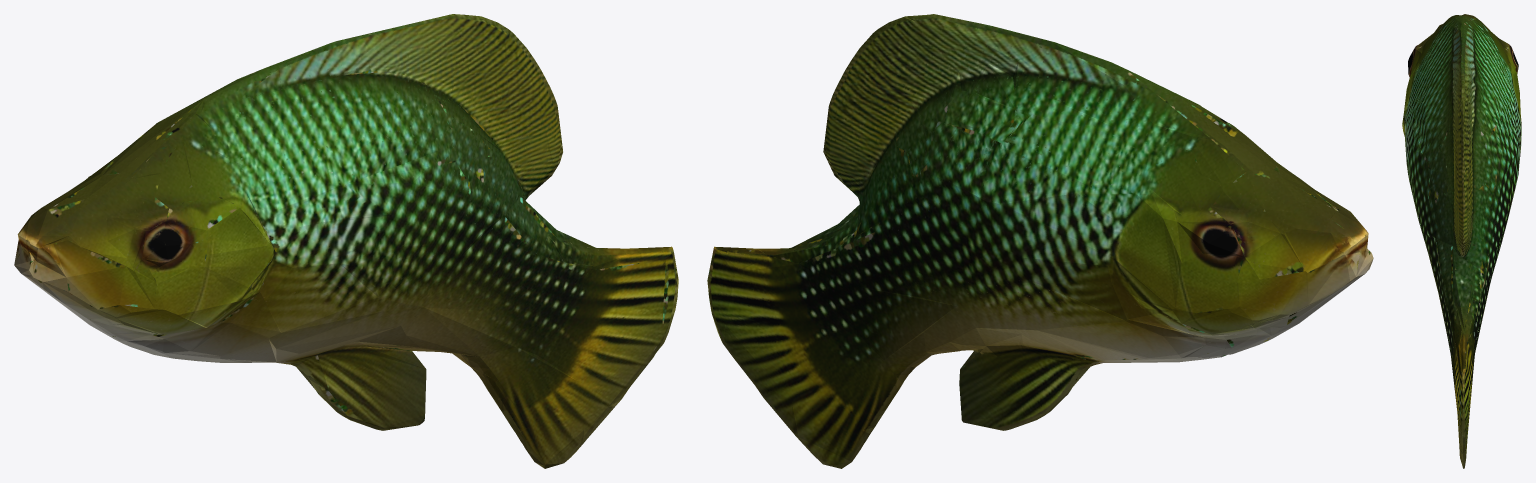
File: fish_0119_smpl23_resized.glb
3 views of the same model, side by side, from view 1: azimuth 30°, elevation 25°; view 2: azimuth 150°, elevation 25°; view 3: azimuth 270°, elevation 25° (orthographic). The views are drawn at different scales.
Parts seen in each view (by area): view 1: world; view 2: world; view 3: world.
Boxes of the visible parts, x1,y1,x2,y2 form: world: (14, 14, 678, 468); world: (707, 14, 1373, 468); world: (1402, 14, 1521, 468).
Size of the model in its own units: 1.98 by 1.38 by 0.4315.
1 material, 1 textured.
